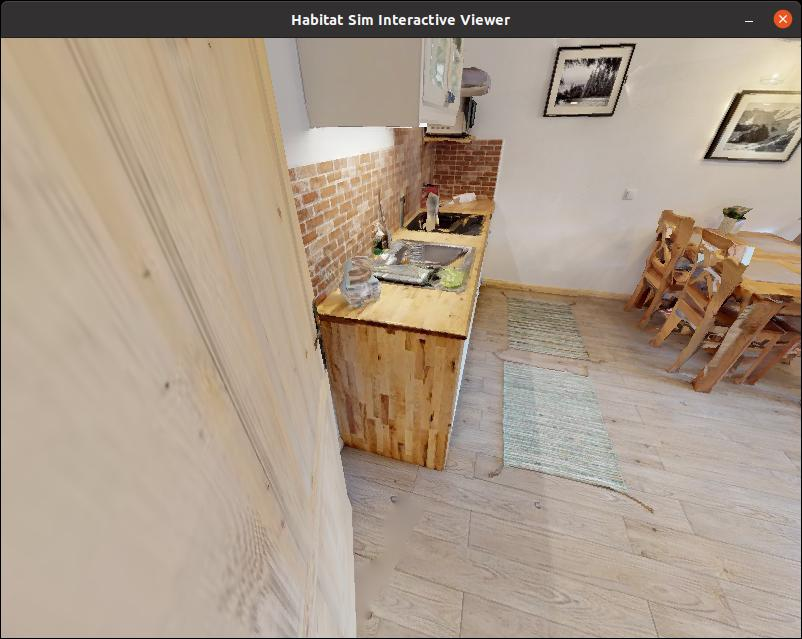chair: (649, 239, 778, 401)
table: (665, 197, 802, 408)
